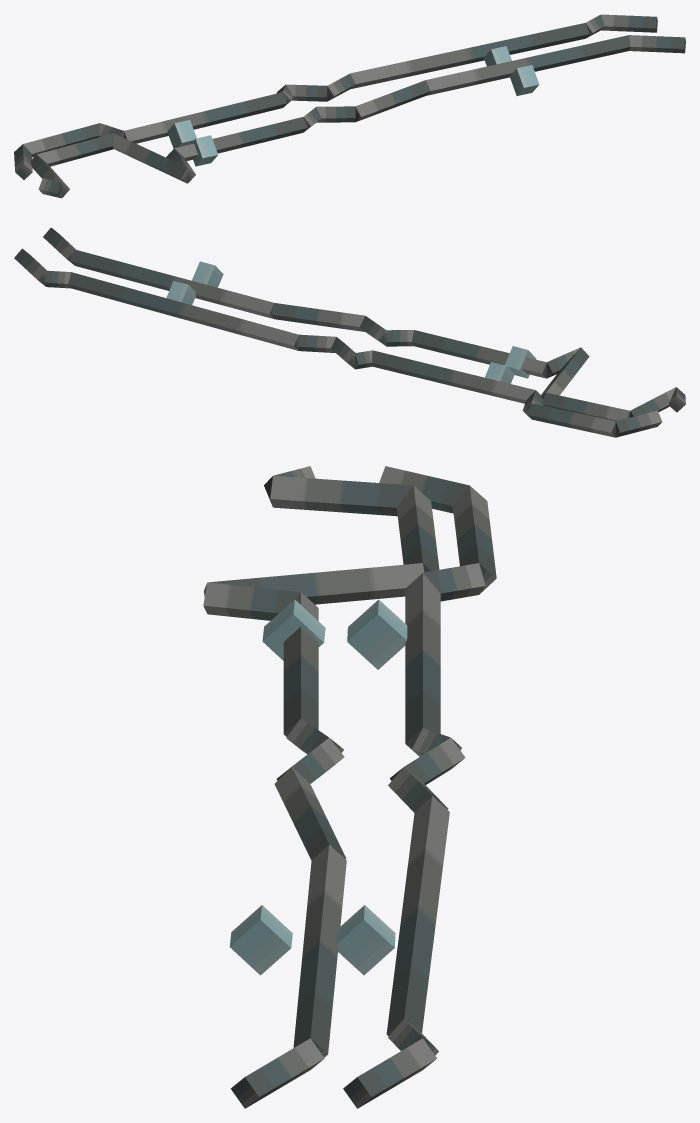
The model's file is pz_native_electrical_189.obj.
3 renders of one model, top to bottom at view 1: azimuth 30°, elevation 25°; view 2: azimuth 150°, elevation 25°; view 3: azimuth 270°, elevation 25°, orthographic. The views are drawn at different scales.
Parts seen in each view (by area): view 1: conduit, conduit_end; view 2: conduit, conduit_end; view 3: conduit, conduit_end.
Boxes of the visible parts, x1,y1,x2,y2 form: conduit: [14, 14, 684, 198]; conduit_end: [15, 17, 685, 197]; conduit: [14, 227, 685, 437]; conduit_end: [38, 250, 685, 437]; conduit: [203, 466, 496, 1107]; conduit_end: [204, 476, 496, 1108].
Bounding box in the file's own units: 1 × 0.042 × 0.1998.
Materials: 1 (1 with a texture image).
